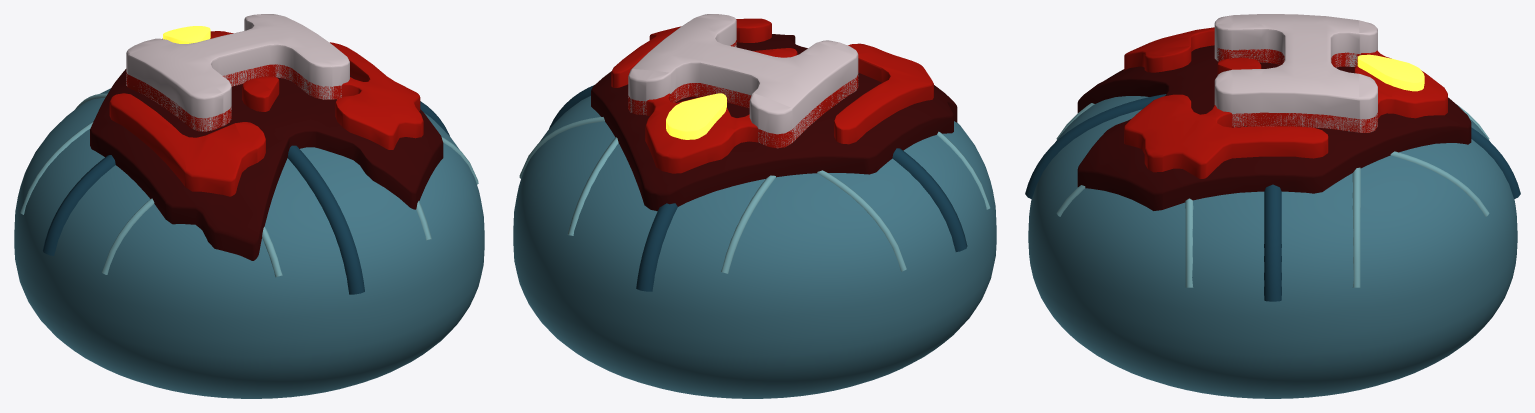
File: pu_hyper_pulse.glb
3 renders of one model, left to right at view 1: azimuth 30°, elevation 25°; view 2: azimuth 150°, elevation 25°; view 3: azimuth 270°, elevation 25°, orthographic. The views are drawn at different scales.
Parts seen in each view (by area): view 1: orb, badge, badge_red, letter, orb_groove_13, orb_seam_13, badge_glow; view 2: orb, badge, letter, badge_red, orb_groove_13, orb_seam_13, badge_glow; view 3: orb, badge, badge_red, letter, orb_groove_13, orb_seam_13, badge_glow.
Part boxes in pixels (left/top/right/bottom): orb: left=14, top=88, right=484, bottom=398; badge: left=90, top=69, right=443, bottom=260; badge_red: left=109, top=31, right=423, bottom=196; letter: left=126, top=14, right=349, bottom=131; orb_groove_13: left=42, top=101, right=449, bottom=294; orb_seam_13: left=20, top=93, right=478, bottom=277; badge_glow: left=163, top=26, right=210, bottom=43; orb: left=513, top=96, right=996, bottom=398; badge: left=591, top=34, right=957, bottom=211; letter: left=628, top=14, right=858, bottom=148; badge_red: left=611, top=18, right=933, bottom=173; orb_groove_13: left=549, top=85, right=967, bottom=291; orb_seam_13: left=519, top=117, right=990, bottom=273; badge_glow: left=666, top=93, right=726, bottom=139; orb: left=1028, top=96, right=1517, bottom=398; badge: left=1077, top=45, right=1471, bottom=210; badge_red: left=1124, top=27, right=1447, bottom=178; letter: left=1214, top=14, right=1377, bottom=132; orb_groove_13: left=1025, top=94, right=1520, bottom=301; orb_seam_13: left=1056, top=103, right=1489, bottom=287; badge_glow: left=1357, top=54, right=1424, bottom=91.
Bounding box in the file's own units: 20.88 × 14.28 × 21.27.
